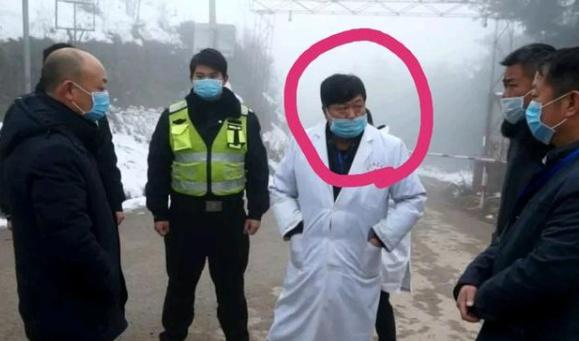OK: (526, 87, 559, 145), (78, 75, 110, 122), (194, 68, 224, 101)
WRONG: (500, 71, 529, 124), (330, 99, 367, 138)
